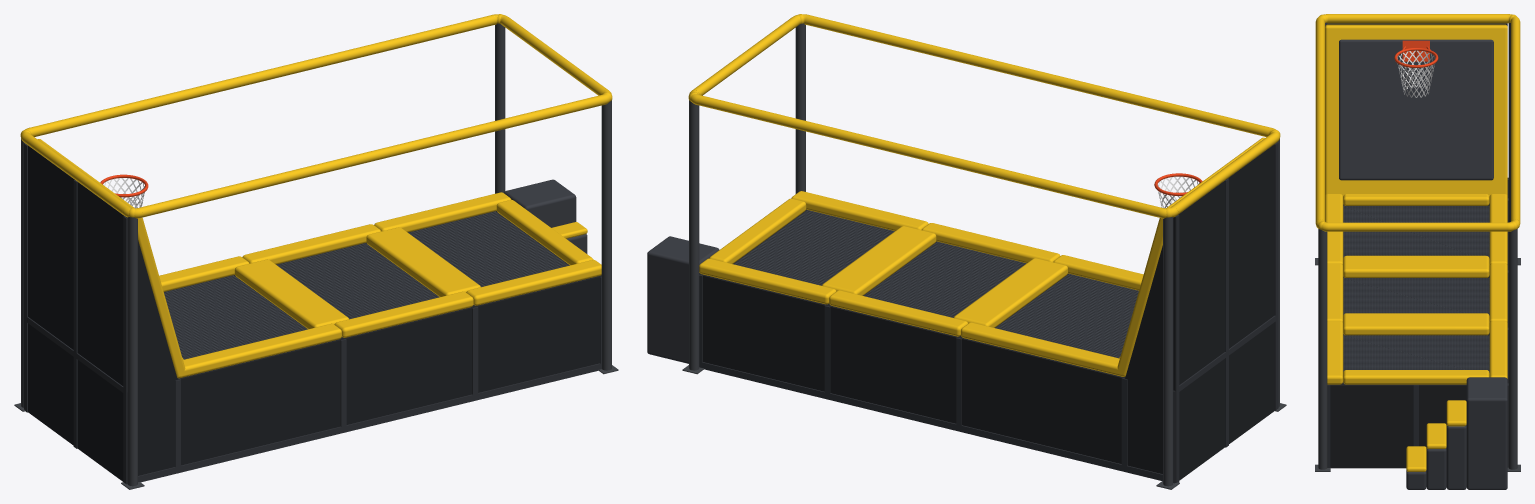
The model's file is trampolim-enterrada.glb.
3 renders of one model, left to right at view 1: azimuth 30°, elevation 25°; view 2: azimuth 150°, elevation 25°; view 3: azimuth 270°, elevation 25°, orthographic. The views are drawn at different scales.
Visible parts, largest first — view 1: caixote, estofados-amarelos, camas, quadro-amarelo, frisos-do-caixote, colunas, estofado-cinza; view 2: caixote, estofados-amarelos, camas, quadro-amarelo, frisos-do-caixote, colunas, estofado-cinza; view 3: estofado-cinza, estofados-amarelos, camas, caixote, quadro-amarelo, colunas, frisos-do-caixote, rede, aro.
Part boxes in pixels (left/top/right/bottom): caixote: left=25, top=143, right=601, bottom=481; estofados-amarelos: left=38, top=139, right=601, bottom=378; camas: left=164, top=211, right=568, bottom=359; quadro-amarelo: left=20, top=14, right=612, bottom=218; frisos-do-caixote: left=24, top=143, right=601, bottom=484; colunas: left=14, top=23, right=618, bottom=489; estofado-cinza: left=504, top=179, right=587, bottom=253; caixote: left=699, top=142, right=1277, bottom=480; estofados-amarelos: left=699, top=137, right=1264, bottom=376; camas: left=733, top=210, right=1138, bottom=358; quadro-amarelo: left=688, top=14, right=1280, bottom=218; frisos-do-caixote: left=699, top=142, right=1278, bottom=483; colunas: left=682, top=23, right=1286, bottom=489; estofado-cinza: left=647, top=236, right=719, bottom=363; estofado-cinza: left=1339, top=39, right=1507, bottom=489; estofados-amarelos: left=1325, top=24, right=1507, bottom=471; camas: left=1343, top=206, right=1489, bottom=372; caixote: left=1327, top=23, right=1507, bottom=468; quadro-amarelo: left=1315, top=14, right=1520, bottom=231; colunas: left=1315, top=22, right=1520, bottom=471; frisos-do-caixote: left=1327, top=177, right=1508, bottom=467; rede: left=1397, top=50, right=1435, bottom=97; aro: left=1394, top=40, right=1438, bottom=67.
Bounding box in the file's own units: 6.01 × 2.98 × 2.25.
Materials: 9 (2 with a texture image).
